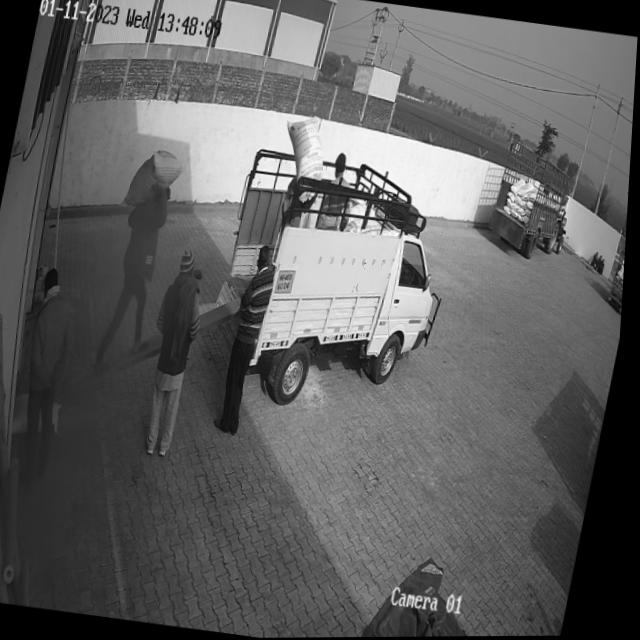sack: (124, 146, 187, 213)
